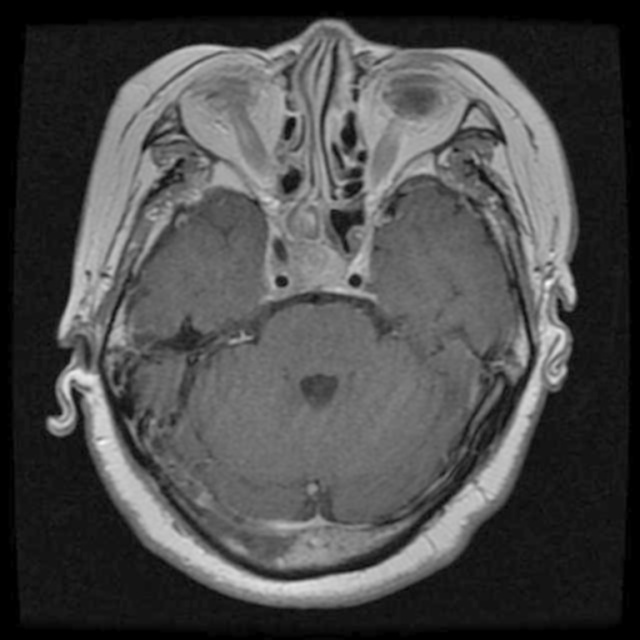no tumor: (278, 218, 348, 294)
